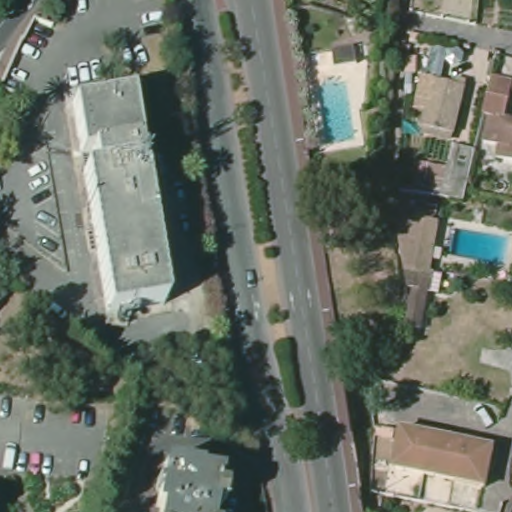pool: (313, 74, 358, 143), (448, 224, 512, 264)
